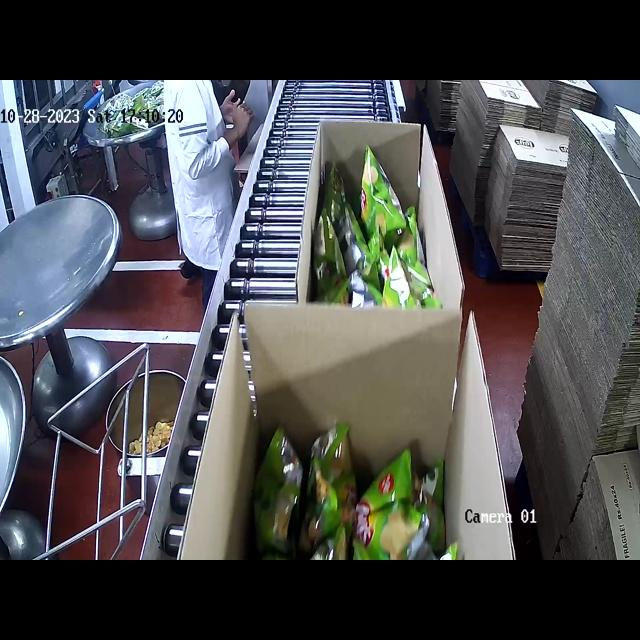yogurt: (260, 423, 417, 560), (329, 151, 426, 309)
